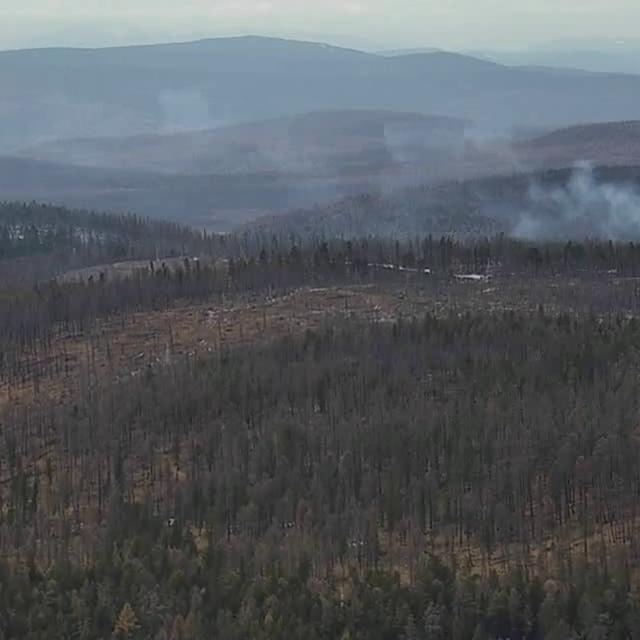Smoke: (3, 88, 639, 277)
